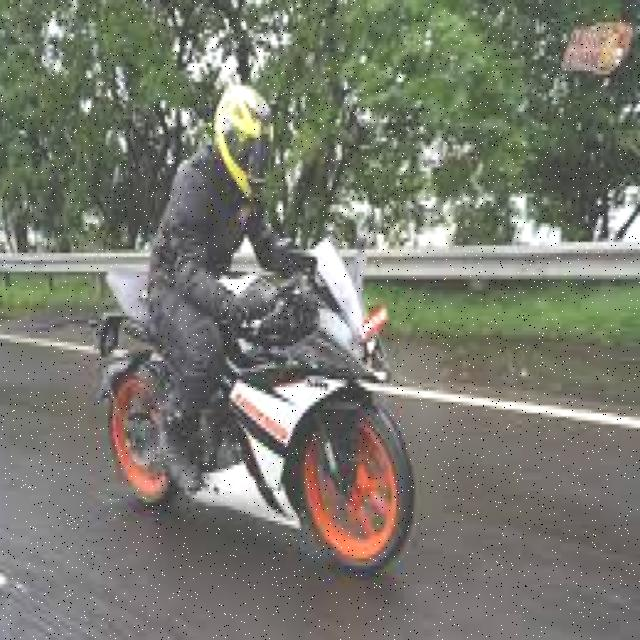not_triplets: (96, 81, 412, 561)
with-helmet: (212, 82, 280, 208)
